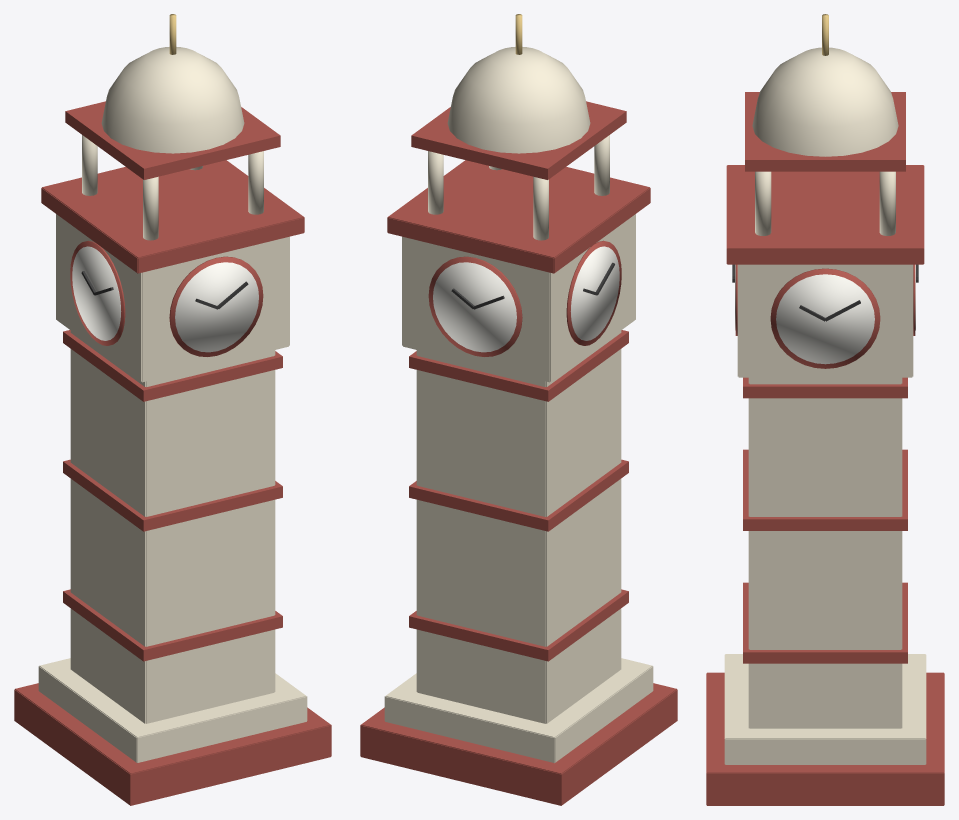
File: clock_tower_ao.glb
The picture shows the model from 3 angles, left to right: view 1: azimuth 30°, elevation 25°; view 2: azimuth 150°, elevation 25°; view 3: azimuth 270°, elevation 25°; orthographic projection. The views are drawn at different scales.
Parts seen in each view (by area): view 1: clock_tower; view 2: clock_tower; view 3: clock_tower.
Part boxes in pixels (x1,y1,x2,y2): clock_tower: [14, 14, 331, 805]; clock_tower: [360, 14, 677, 805]; clock_tower: [706, 14, 944, 805].
Size of the model in its own units: 6.5 by 22.3 by 6.5.
